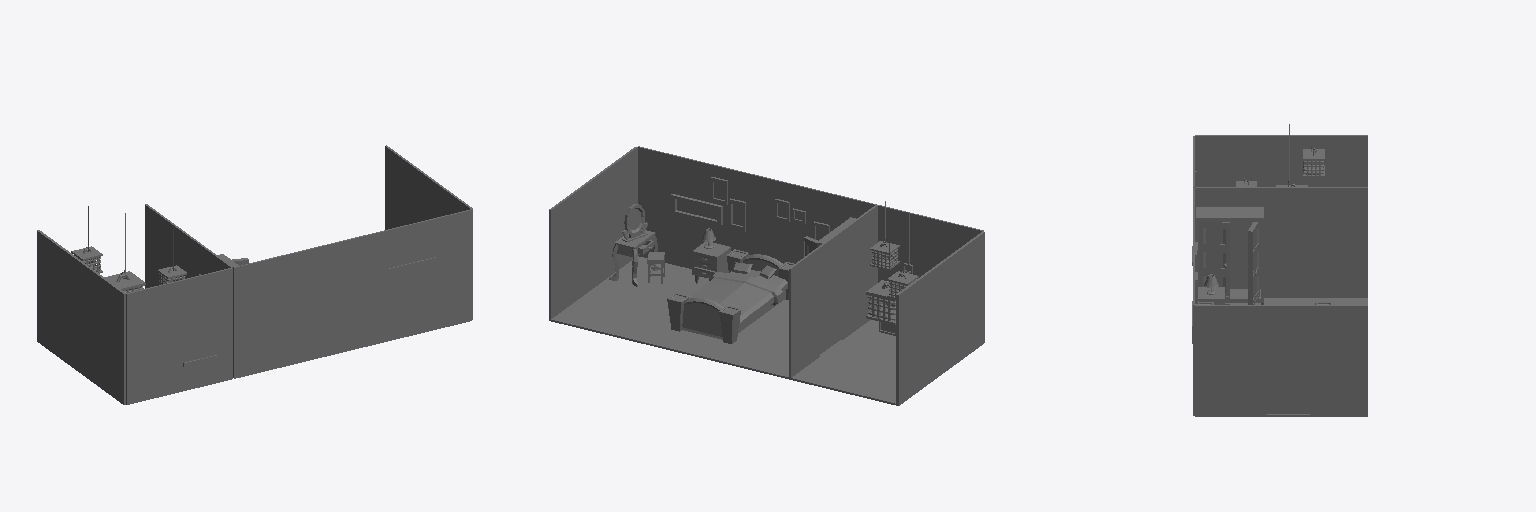
File: habPadres.obj
3 views of the same model, side by side, from view 1: azimuth 30°, elevation 25°; view 2: azimuth 150°, elevation 25°; view 3: azimuth 270°, elevation 25° (orthographic).
Visible parts, largest first — view 1: HabPadres habitacion_padres1:Paredes, HabPadres pCube64; view 2: HabPadres habitacion_padres1:Paredes, HabPadres _polySurface2, HabPadres pCylinder7, HabPadres group3 Cajonera1, HabPadres pCube64; view 3: HabPadres habitacion_padres1:Paredes, HabPadres HabJohnny group2 Armario, HabPadres HabJohnny group2 pCube57, HabPadres HabJohnny group2 pCube55 group4.
Boxes of the visible parts, x1=… form: HabPadres habitacion_padres1:Paredes: x1=37, y1=145, x2=472, y2=404; HabPadres pCube64: x1=387, y1=257, x2=437, y2=286; HabPadres habitacion_padres1:Paredes: x1=549, y1=146, x2=984, y2=405; HabPadres _polySurface2: x1=667, y1=249, x2=793, y2=343; HabPadres pCylinder7: x1=622, y1=204, x2=647, y2=241; HabPadres group3 Cajonera1: x1=692, y1=242, x2=730, y2=278; HabPadres pCube64: x1=671, y1=194, x2=722, y2=224; HabPadres habitacion_padres1:Paredes: x1=1193, y1=135, x2=1367, y2=416; HabPadres HabJohnny group2 Armario: x1=1196, y1=207, x2=1263, y2=302; HabPadres HabJohnny group2 pCube57: x1=1199, y1=222, x2=1229, y2=298; HabPadres HabJohnny group2 pCube55 group4: x1=1248, y1=222, x2=1259, y2=304.
Bounding box in the file's own units: 112 × 46.21 × 49.13.